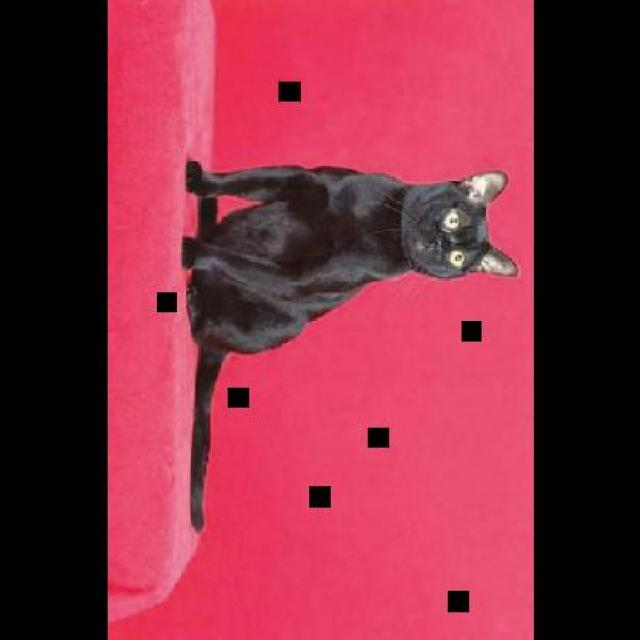unauthorized: (178, 157, 517, 532)
